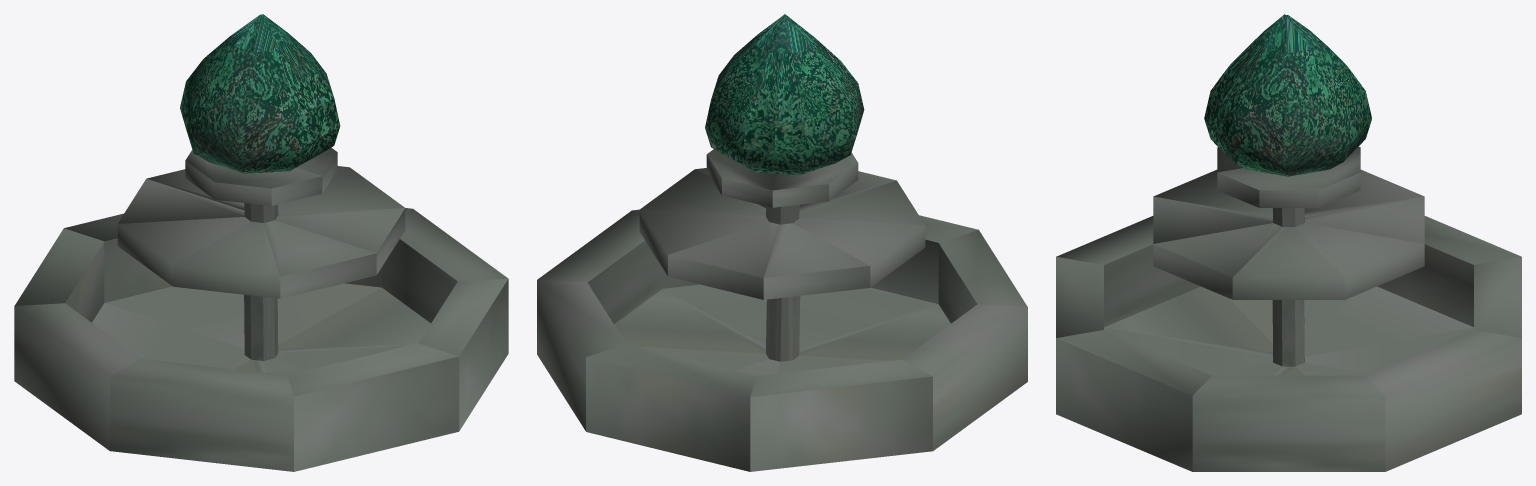
Rendered from PREDUNGEON FOUNTAIN.FBX.
3 renders of one model, left to right at view 1: azimuth 30°, elevation 25°; view 2: azimuth 150°, elevation 25°; view 3: azimuth 270°, elevation 25°, orthographic.
Parts seen in each view (by area): view 1: Cylinder; view 2: Cylinder; view 3: Cylinder.
Part boxes in pixels (left/top/right/bottom): Cylinder: left=14, top=14, right=508, bottom=471; Cylinder: left=537, top=14, right=1027, bottom=471; Cylinder: left=1056, top=14, right=1521, bottom=471.
Size of the model in its own units: 218 by 186 by 218.
